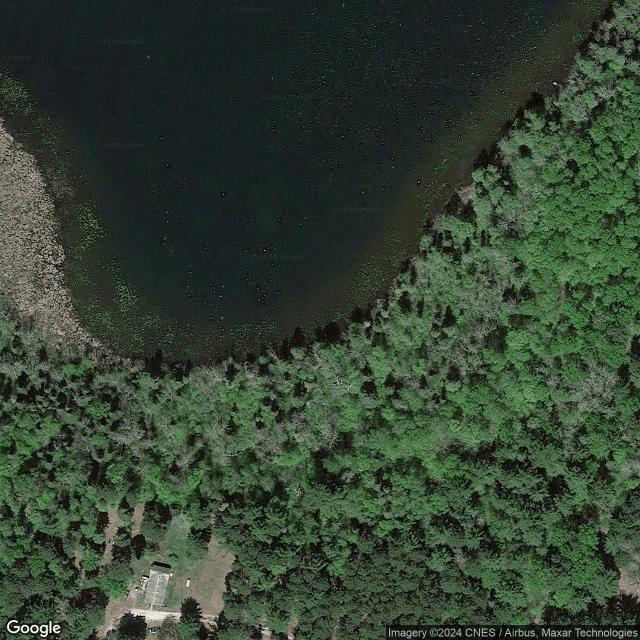Propane: (186, 578, 192, 589)
